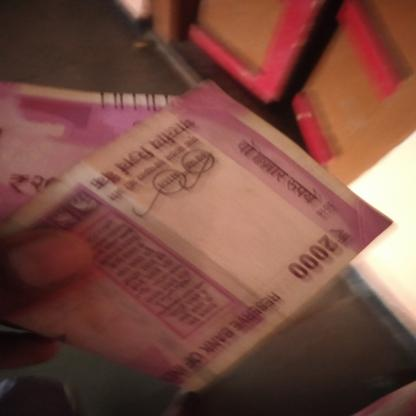New2000Back: (26, 117, 356, 389)
